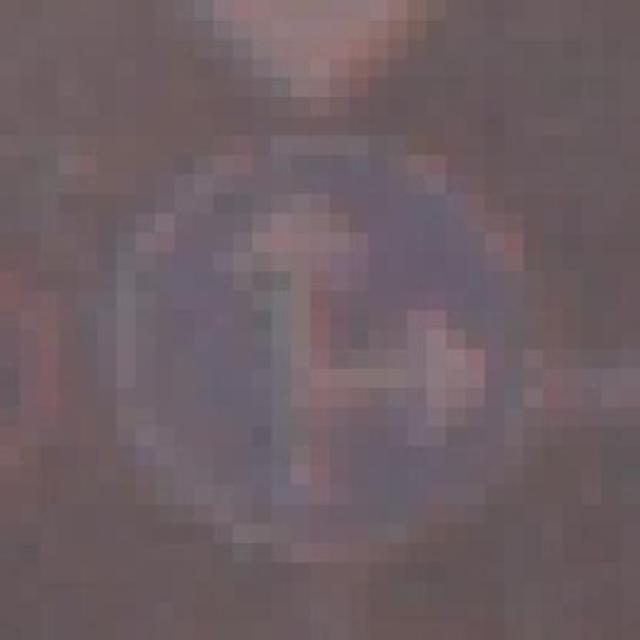Go Straight or Turn Right: (116, 136, 562, 582)
